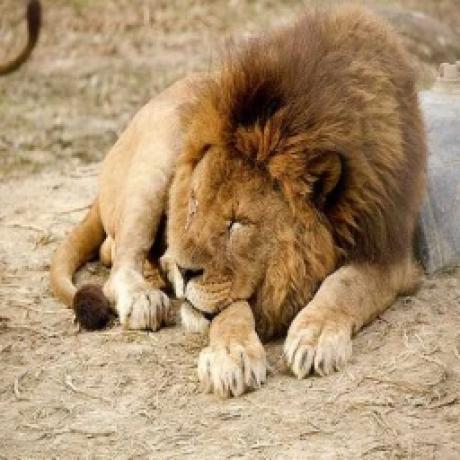Lion: (46, 4, 434, 398)
